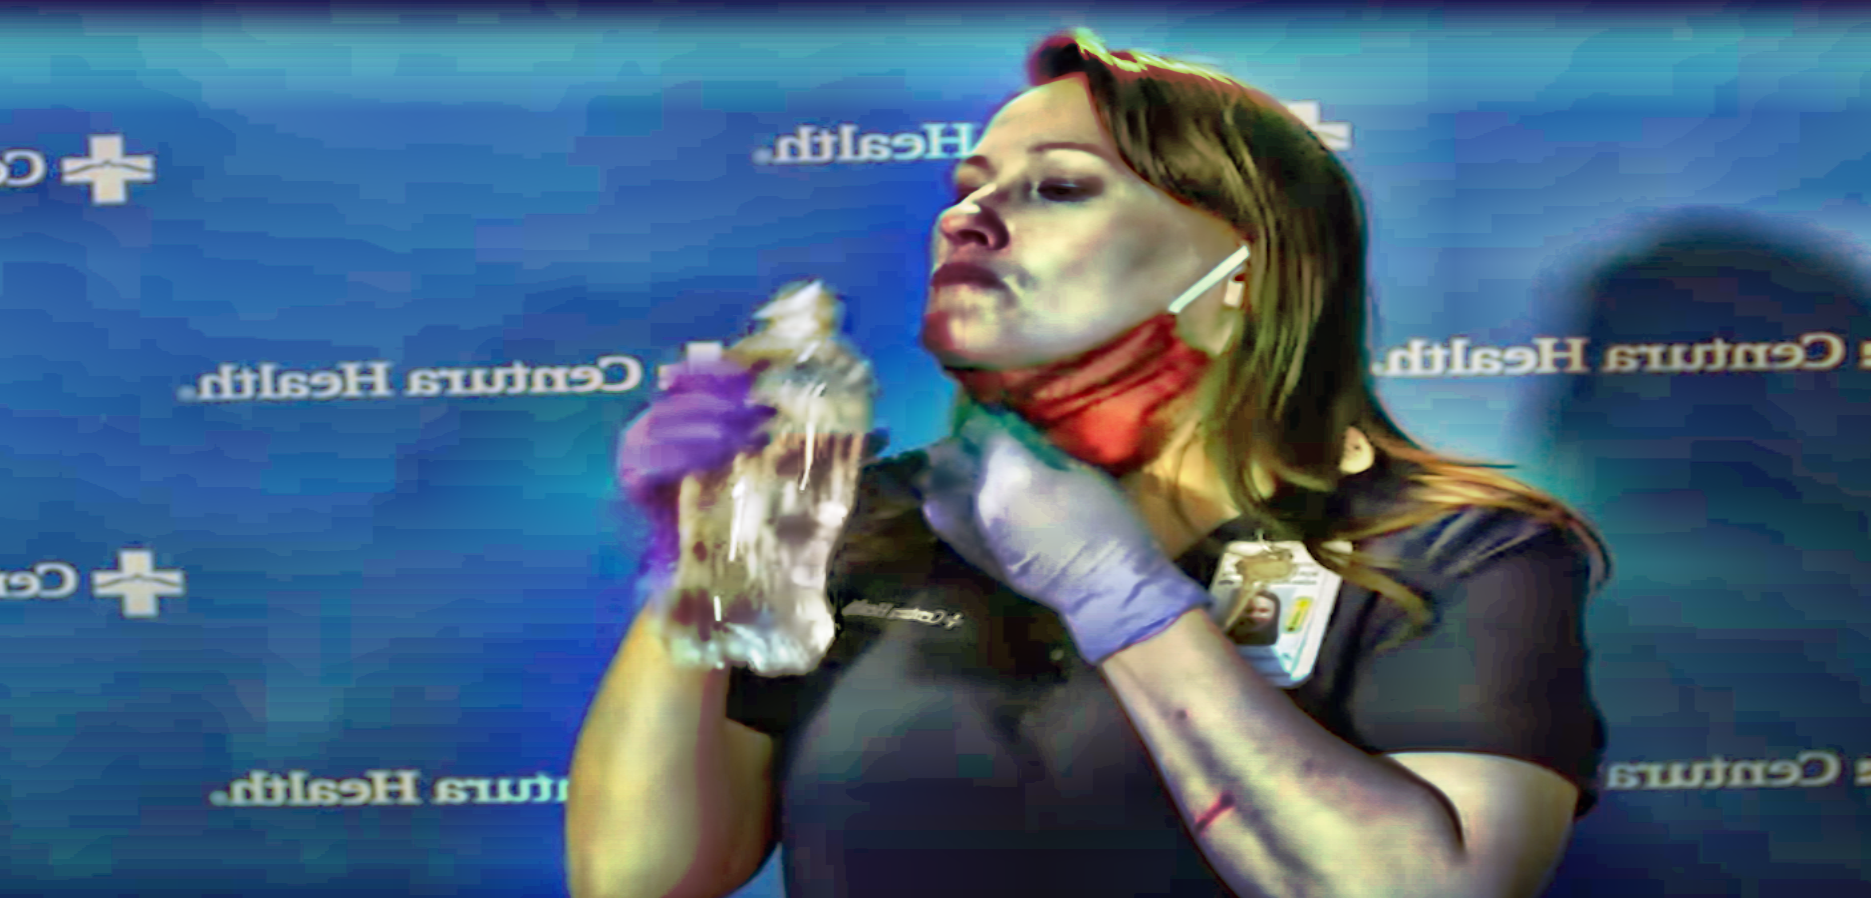mask_weared_incorrect: (920, 40, 1362, 477)
